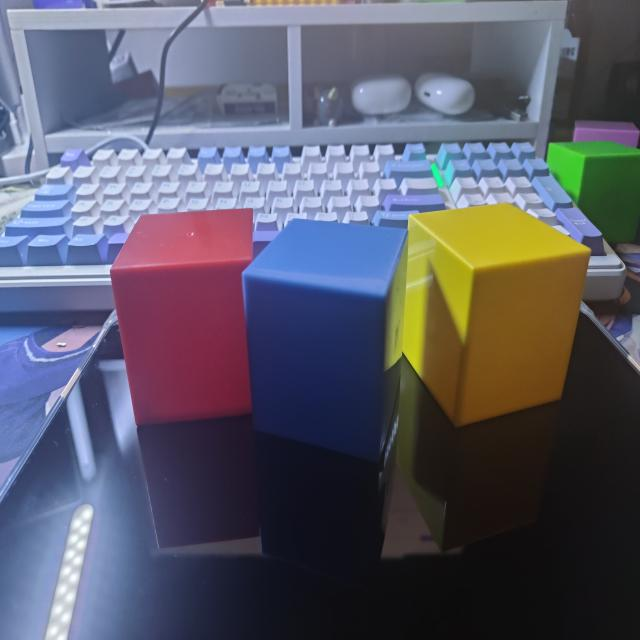blue: (241, 222, 409, 465)
red: (110, 209, 255, 430)
yellow: (403, 199, 591, 431)
